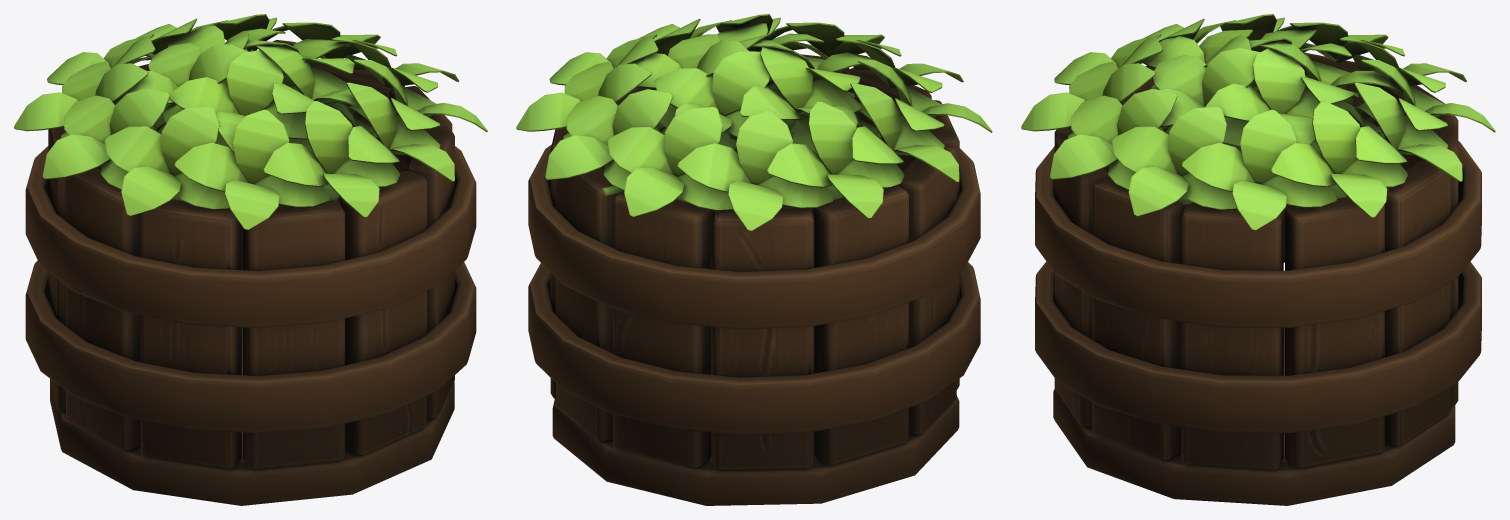
The model's file is FlowerPot-transformed.glb.
3 renders of one model, left to right at view 1: azimuth 30°, elevation 25°; view 2: azimuth 150°, elevation 25°; view 3: azimuth 270°, elevation 25°, orthographic.
Visible parts, largest first — view 1: Flowerpot; view 2: Flowerpot; view 3: Flowerpot.
Part boxes in pixels (<box>): Flowerpot: <box>14,14,487,505</box>; Flowerpot: <box>516,14,992,505</box>; Flowerpot: <box>1021,14,1495,505</box>.
Bounding box in the file's own units: 0.644 × 0.5628 × 0.644.
Materials: 1 (1 with a texture image).
